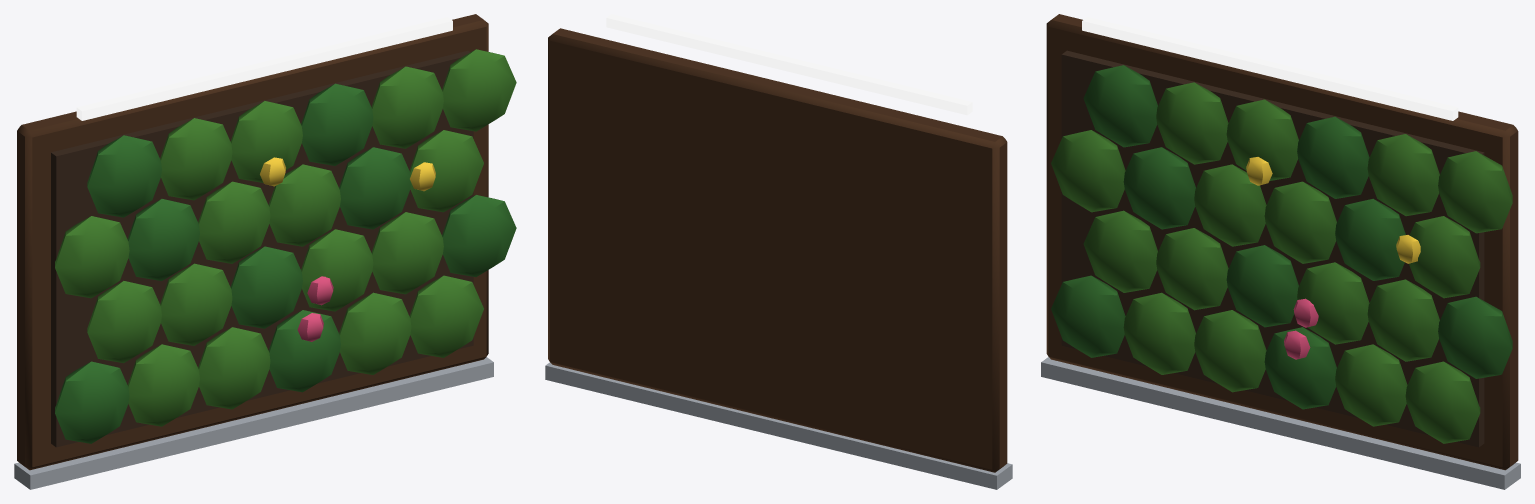
The model's file is plant_moss_wall_panel.glb.
3 views of the same model, side by side, from view 1: azimuth 30°, elevation 25°; view 2: azimuth 150°, elevation 25°; view 3: azimuth 330°, elevation 25° (orthographic). The views are drawn at different scales.
Parts seen in each view (by area): view 1: plant_moss_wall_panel; view 2: plant_moss_wall_panel; view 3: plant_moss_wall_panel.
Boxes of the visible parts, x1,y1,x2,y2 form: plant_moss_wall_panel: (14, 14, 516, 489); plant_moss_wall_panel: (545, 14, 1012, 489); plant_moss_wall_panel: (1041, 14, 1520, 489).
Size of the model in its own units: 1.03 by 0.765 by 0.1221.
